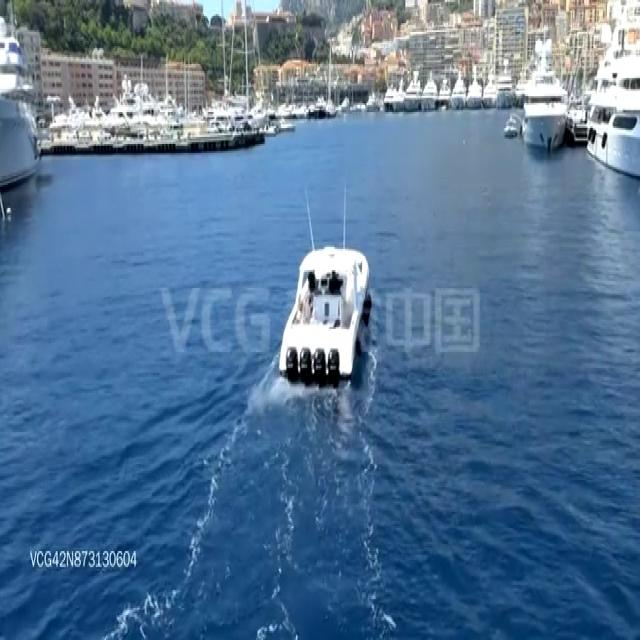houseboat: (280, 239, 372, 380)
